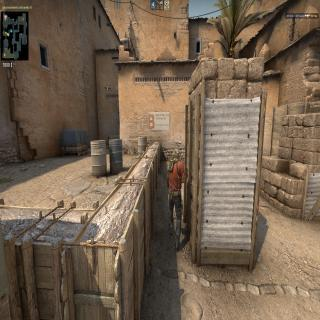T-Head: (172, 147, 180, 161)
